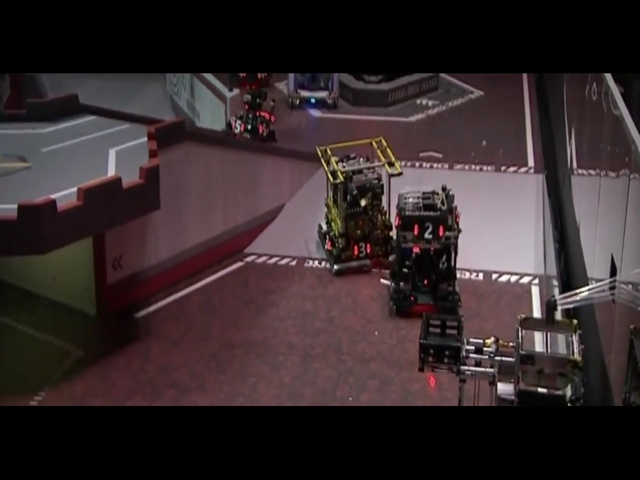bluePlate: (372, 322, 403, 350), (238, 156, 268, 181), (325, 319, 342, 346), (294, 131, 313, 153), (125, 201, 144, 220), (283, 157, 297, 176)
redPlate: (112, 332, 159, 360), (177, 314, 195, 344)
